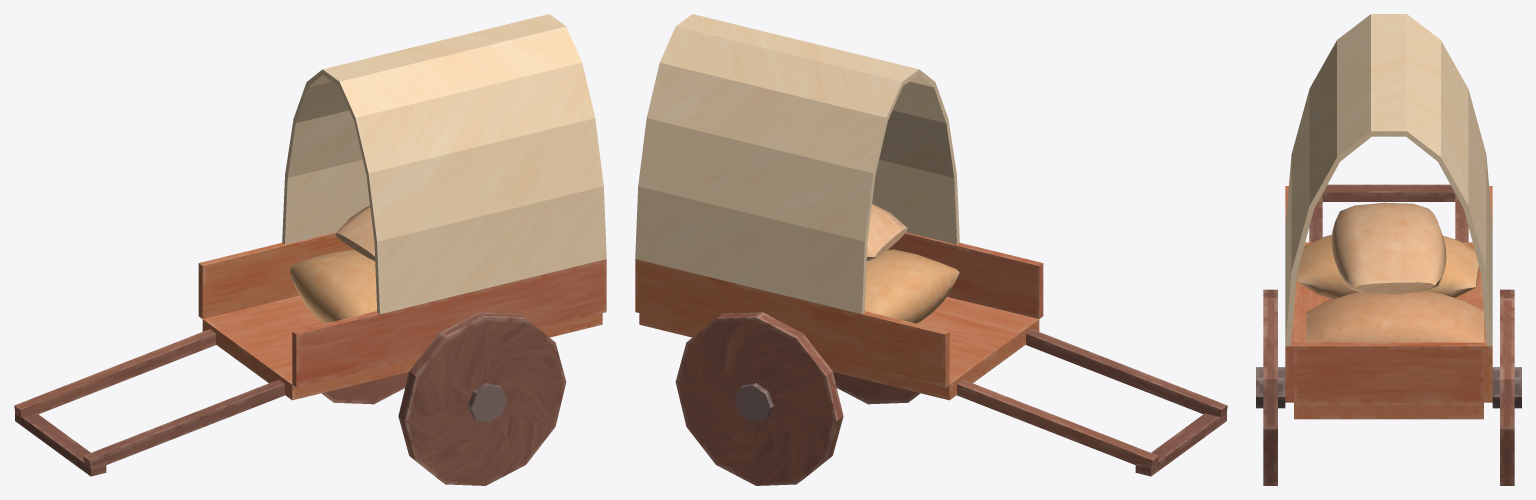
The model's file is cart.fbx.
The picture shows the model from 3 angles, left to right: view 1: azimuth 30°, elevation 25°; view 2: azimuth 150°, elevation 25°; view 3: azimuth 270°, elevation 25°; orthographic projection. The views are drawn at different scales.
Parts seen in each view (by area): view 1: cart; view 2: cart; view 3: cart.
Boxes of the visible parts, left/top/right/bottom form: cart: left=14, top=14, right=606, bottom=485; cart: left=635, top=14, right=1227, bottom=485; cart: left=1256, top=14, right=1521, bottom=485.
Size of the model in its own units: 8.48 by 6.25 by 3.64.
1 material, 1 textured.
